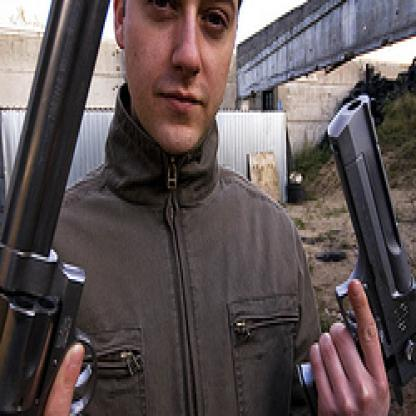gun: (0, 0, 143, 414), (284, 80, 414, 414)
